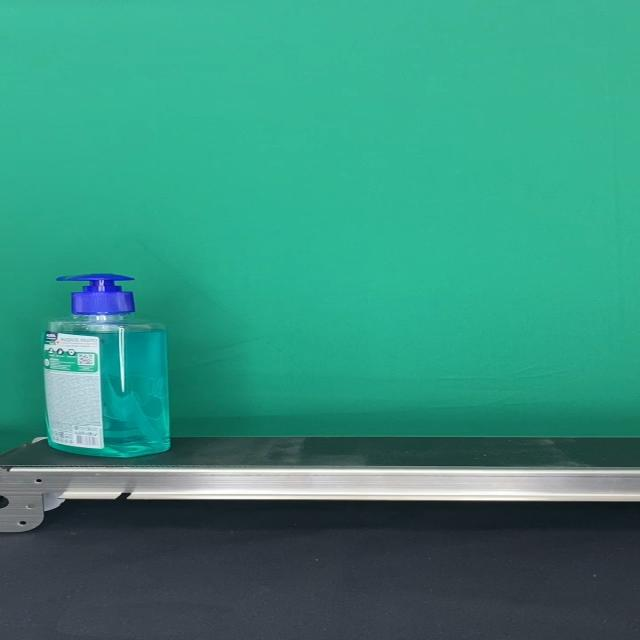Bottle: (42, 273, 170, 458)
Cap: (55, 274, 136, 315)
